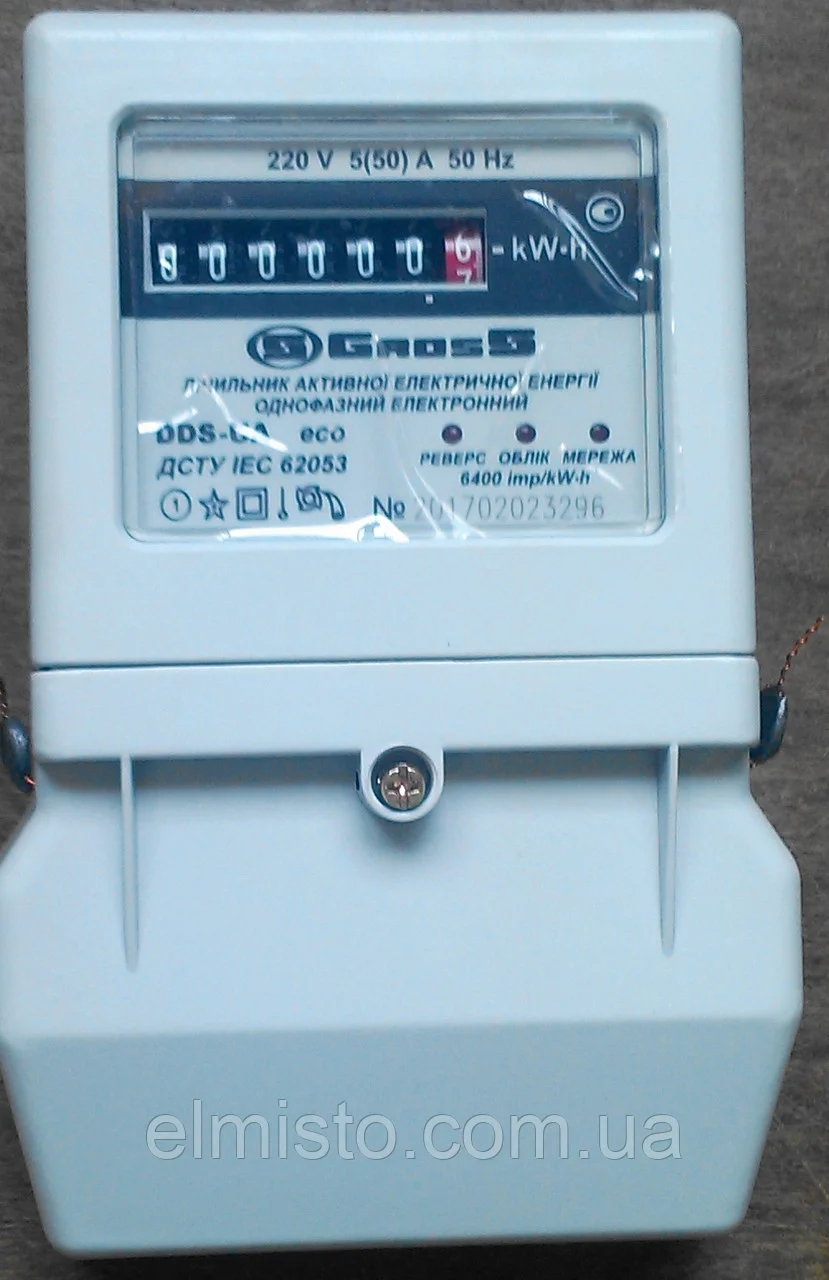counter: (0, 4, 816, 1273)
counter_screen: (141, 208, 495, 294)
